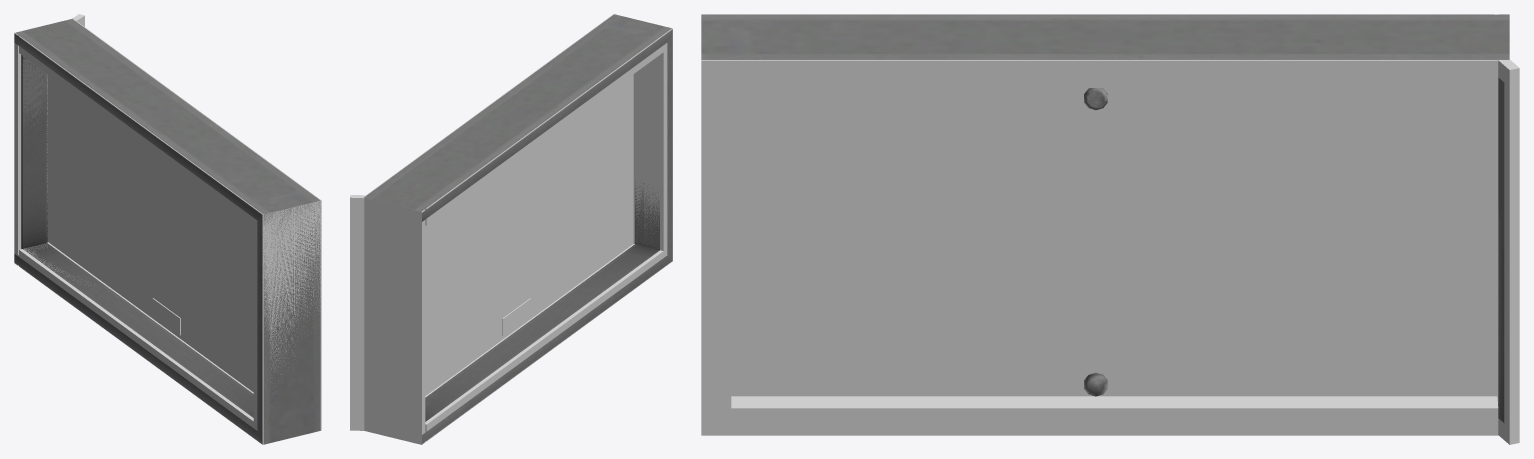
Rendered from prop_blade_metaldoor.glb.
3 views of the same model, side by side, from view 1: azimuth 30°, elevation 25°; view 2: azimuth 150°, elevation 25°; view 3: azimuth 270°, elevation 25° (orthographic). The views are drawn at different scales.
Parts seen in each view (by area): view 1: g_frame_a, c_door_a, c_frame_03, c_frame_01, c_frame_02, dm_frame, c_frame_04, g_frame_b, g_door_a; view 2: c_door_a, g_frame_a, c_frame_04, c_frame_03, c_frame_05, c_frame_01, c_frame_02, dm_frame, g_door_a; view 3: c_door_a, g_frame_a, c_frame_01, c_frame_02, c_frame_03, c_frame_05, dm_frame.
Boxes of the visible parts, left/top/right/bottom form: g_frame_a: left=14, top=18, right=320, bottom=444; c_door_a: left=47, top=74, right=253, bottom=391; c_frame_03: left=253, top=193, right=321, bottom=444; c_frame_01: left=19, top=242, right=253, bottom=437; c_frame_02: left=19, top=21, right=311, bottom=224; dm_frame: left=18, top=56, right=320, bottom=284; c_frame_04: left=14, top=19, right=74, bottom=265; g_frame_b: left=22, top=57, right=311, bottom=291; g_door_a: left=152, top=298, right=180, bottom=335; c_door_a: left=425, top=74, right=633, bottom=395; g_frame_a: left=363, top=14, right=672, bottom=443; c_frame_04: left=364, top=195, right=425, bottom=444; c_frame_03: left=604, top=14, right=672, bottom=267; c_frame_05: left=350, top=195, right=365, bottom=430; c_frame_01: left=425, top=244, right=663, bottom=441; c_frame_02: left=366, top=21, right=663, bottom=225; dm_frame: left=426, top=182, right=659, bottom=403; g_door_a: left=502, top=298, right=530, bottom=335; c_door_a: left=731, top=88, right=1498, bottom=403; g_frame_a: left=701, top=14, right=1509, bottom=422; c_frame_01: left=731, top=396, right=1498, bottom=435; c_frame_02: left=731, top=14, right=1498, bottom=87; c_frame_03: left=701, top=14, right=731, bottom=435; c_frame_05: left=1498, top=59, right=1519, bottom=444; dm_frame: left=1498, top=61, right=1504, bottom=434.
Size of the model in its own units: 0.3532 by 1.1 by 2.18.
2 materials, 1 textured.
